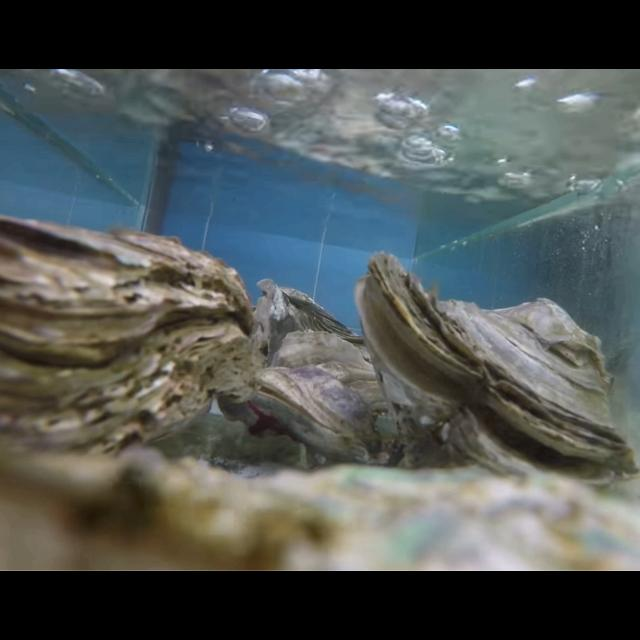Oyster-Closed: (0, 446, 640, 572), (0, 214, 256, 473), (252, 278, 368, 369)
Oyster-Open: (355, 252, 640, 496), (250, 331, 408, 469)
